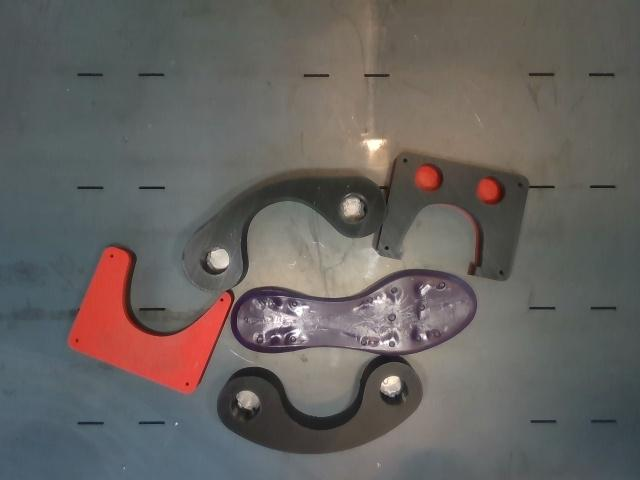shoes: (231, 269, 476, 354)
